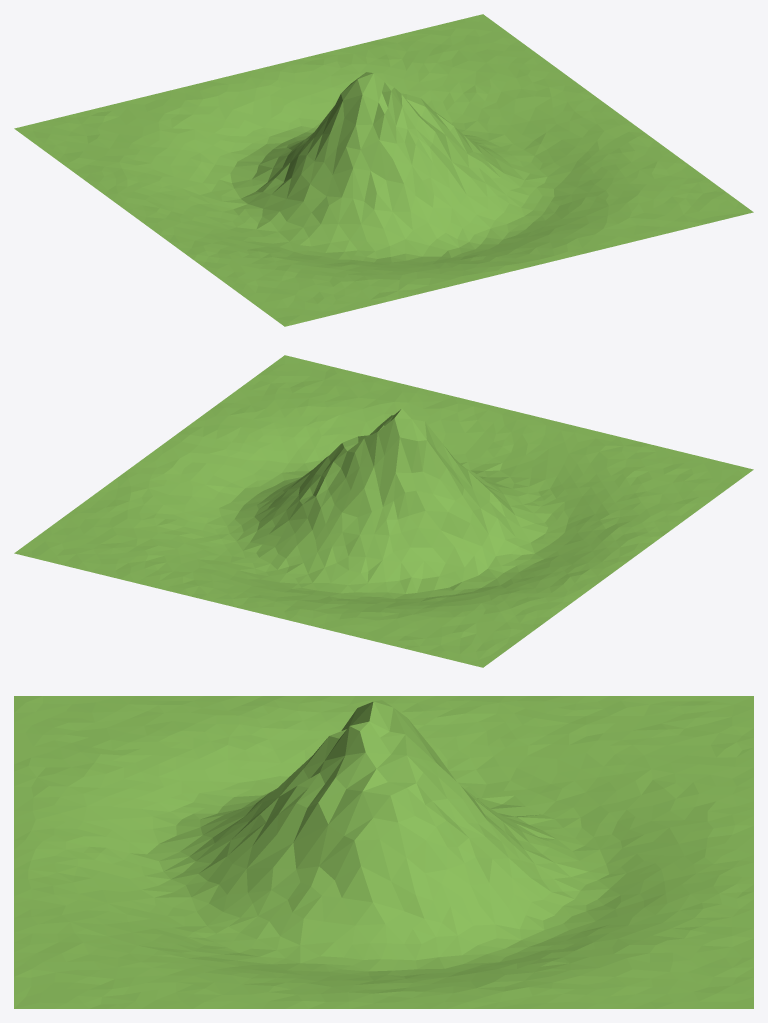
Rendered from MT_Terrain_L_b_20_LOD.fbx.
The picture shows the model from 3 angles, top to bottom: view 1: azimuth 30°, elevation 25°; view 2: azimuth 150°, elevation 25°; view 3: azimuth 270°, elevation 25°; orthographic projection. The views are drawn at different scales.
Parts seen in each view (by area): view 1: MT_Terrain_L_b_20_LOD0; view 2: MT_Terrain_L_b_20_LOD0; view 3: MT_Terrain_L_b_20_LOD0.
Boxes of the visible parts, left/top/right/bottom form: MT_Terrain_L_b_20_LOD0: left=14, top=14, right=753, bottom=326; MT_Terrain_L_b_20_LOD0: left=14, top=355, right=753, bottom=667; MT_Terrain_L_b_20_LOD0: left=14, top=696, right=753, bottom=1008.
Size of what is drawn, in the model's own units: 10000 by 2475 by 10000.
